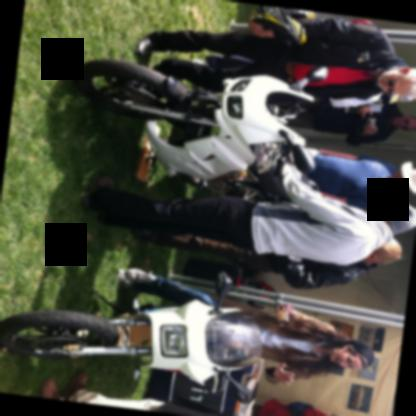handbag: (286, 401, 313, 416)
